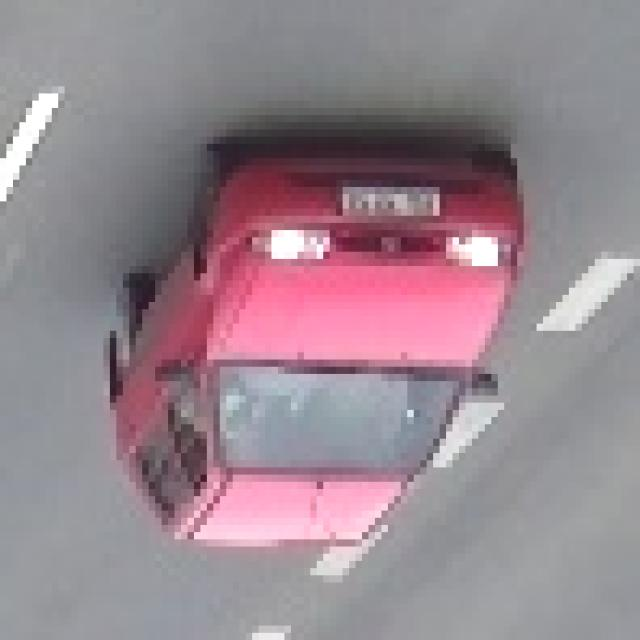red: (110, 139, 526, 550)
